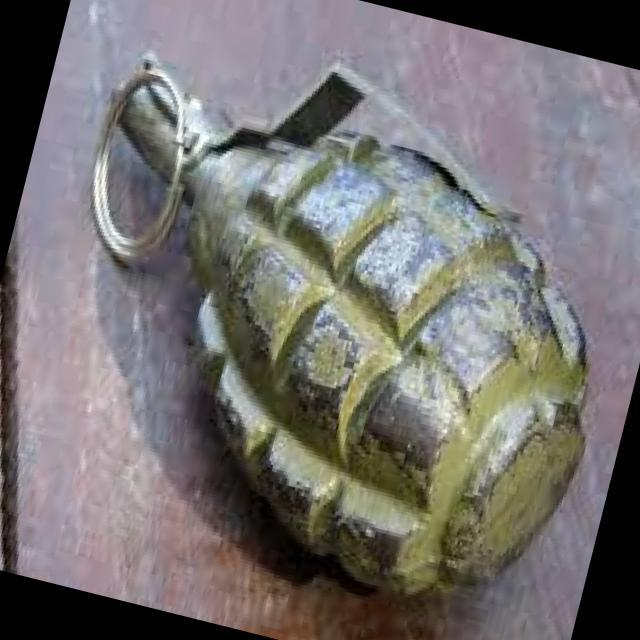grenade: (6, 1, 640, 640)
